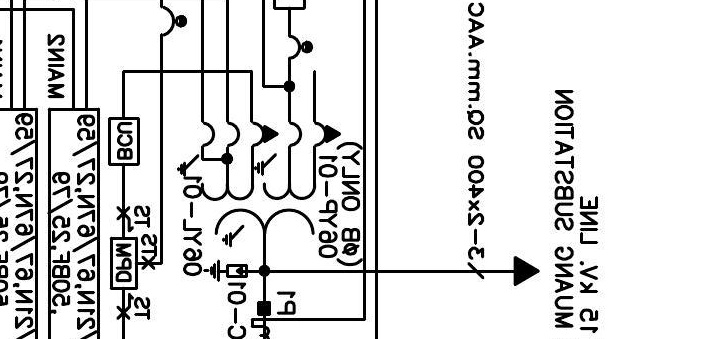115_la: (202, 259, 248, 283)
115_vt_1p: (176, 120, 342, 249)
BCU: (107, 116, 141, 167)
DPM: (109, 237, 139, 291)
